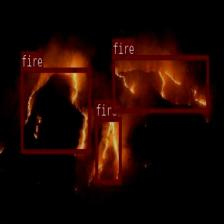fire: (21, 67, 90, 153), (112, 54, 208, 112), (95, 116, 121, 183)
